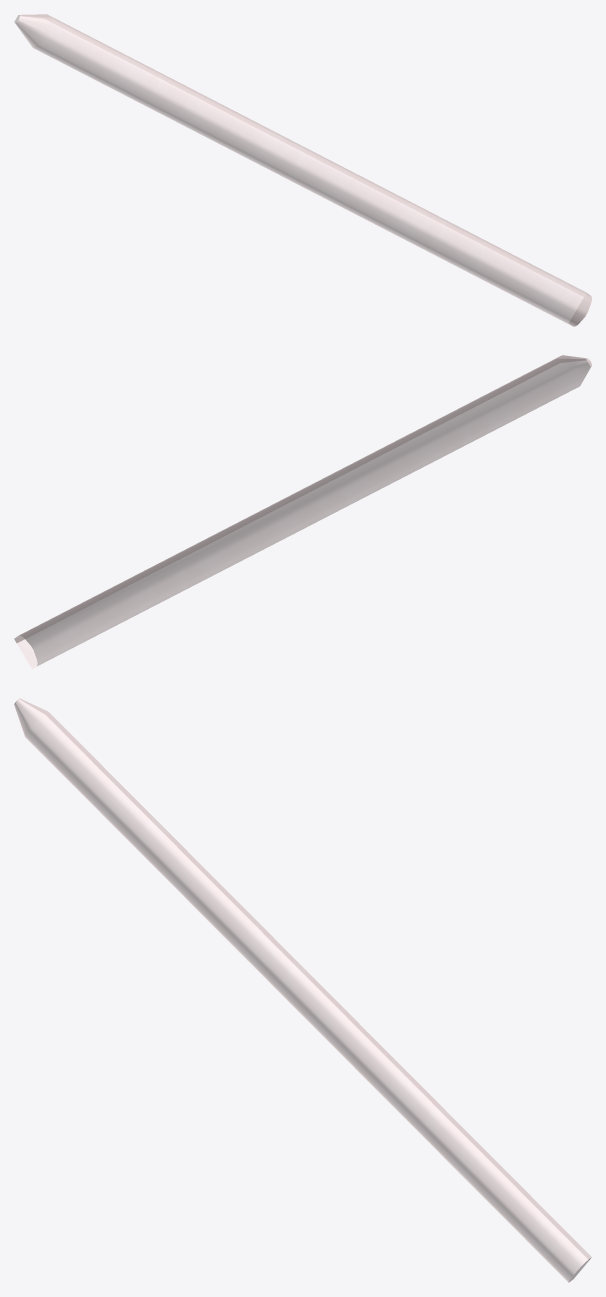
The model's file is pointer.fbx.
3 renders of one model, top to bottom at view 1: azimuth 30°, elevation 25°; view 2: azimuth 150°, elevation 25°; view 3: azimuth 330°, elevation 25°, orthographic.
Parts seen in each view (by area): view 1: techno; view 2: techno; view 3: techno.
Part boxes in pixels (bbox=[...]): techno: bbox=[14, 14, 591, 326]; techno: bbox=[14, 355, 591, 669]; techno: bbox=[14, 698, 591, 1282].
Bounding box in the file's own units: 292 × 216 × 7.82.
